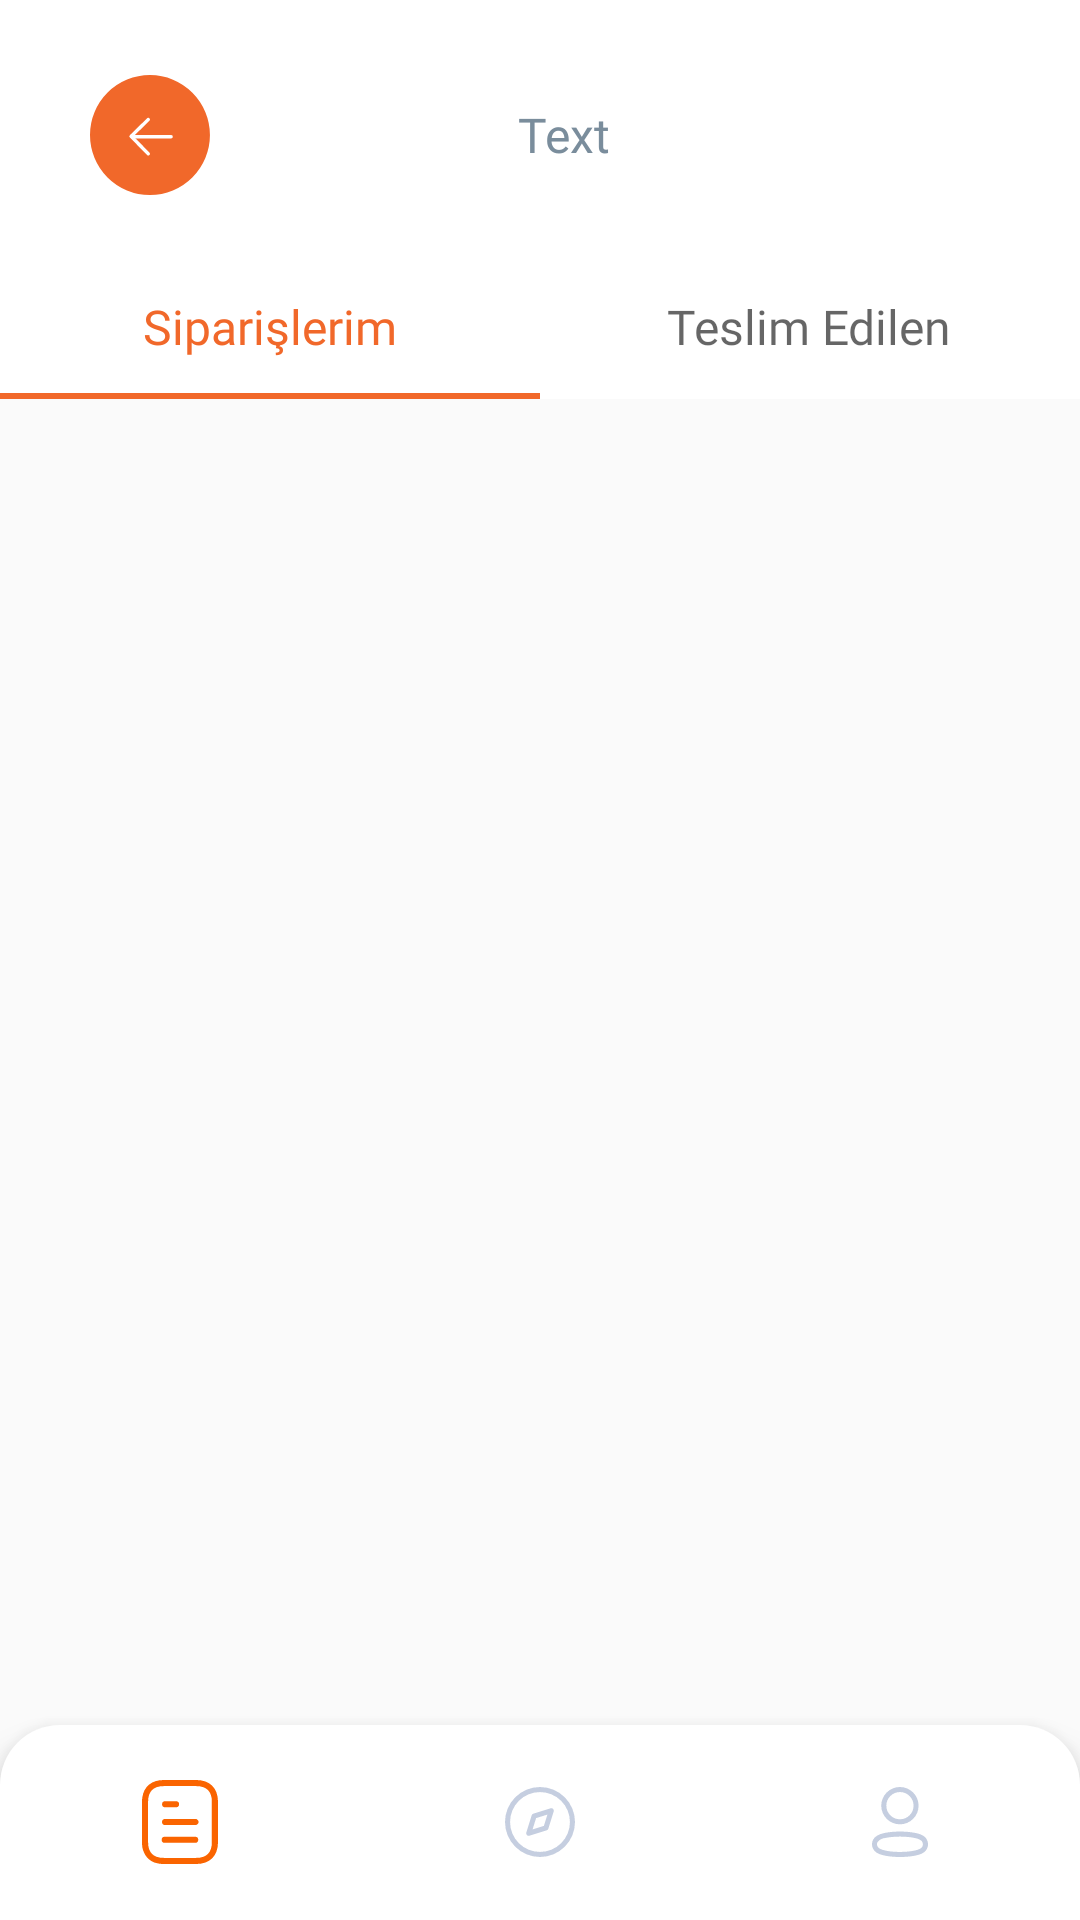

Icons on this 1080×1920 Android screen, each with its box as (x1, y1, x2, y2):
back: (90, 75, 210, 195)
